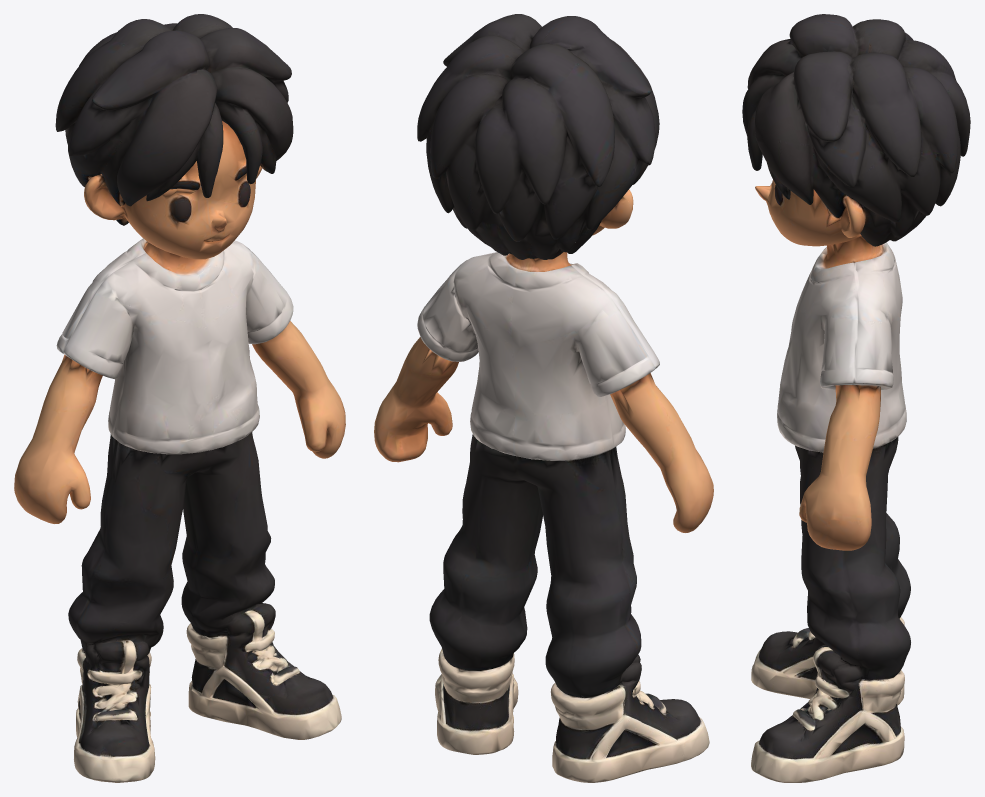
The model's file is jiho.glb.
The picture shows the model from 3 angles, left to right: view 1: azimuth 30°, elevation 25°; view 2: azimuth 150°, elevation 25°; view 3: azimuth 270°, elevation 25°; orthographic projection. The views are drawn at different scales.
Parts seen in each view (by area): view 1: tripo_node_dc92788d-7aae-45e0-bc3b-e28eb201960a; view 2: tripo_node_dc92788d-7aae-45e0-bc3b-e28eb201960a; view 3: tripo_node_dc92788d-7aae-45e0-bc3b-e28eb201960a.
Boxes of the visible parts, x1,y1,x2,y2 form: tripo_node_dc92788d-7aae-45e0-bc3b-e28eb201960a: [14, 14, 345, 782]; tripo_node_dc92788d-7aae-45e0-bc3b-e28eb201960a: [374, 14, 713, 782]; tripo_node_dc92788d-7aae-45e0-bc3b-e28eb201960a: [742, 14, 970, 782].
Bounding box in the file's own units: 0.4642 × 0.9791 × 0.2886.
1 material, 1 textured.
